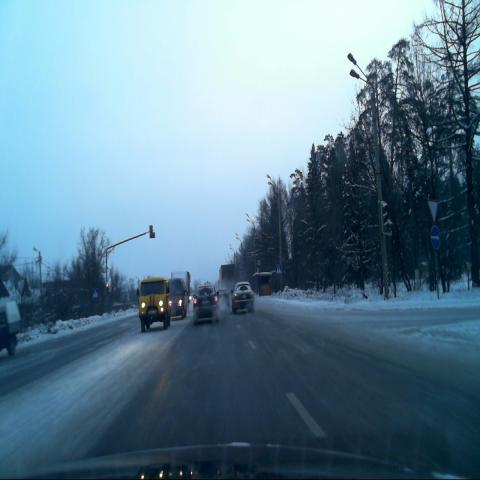4_1_2_1: (430, 226, 440, 251)
